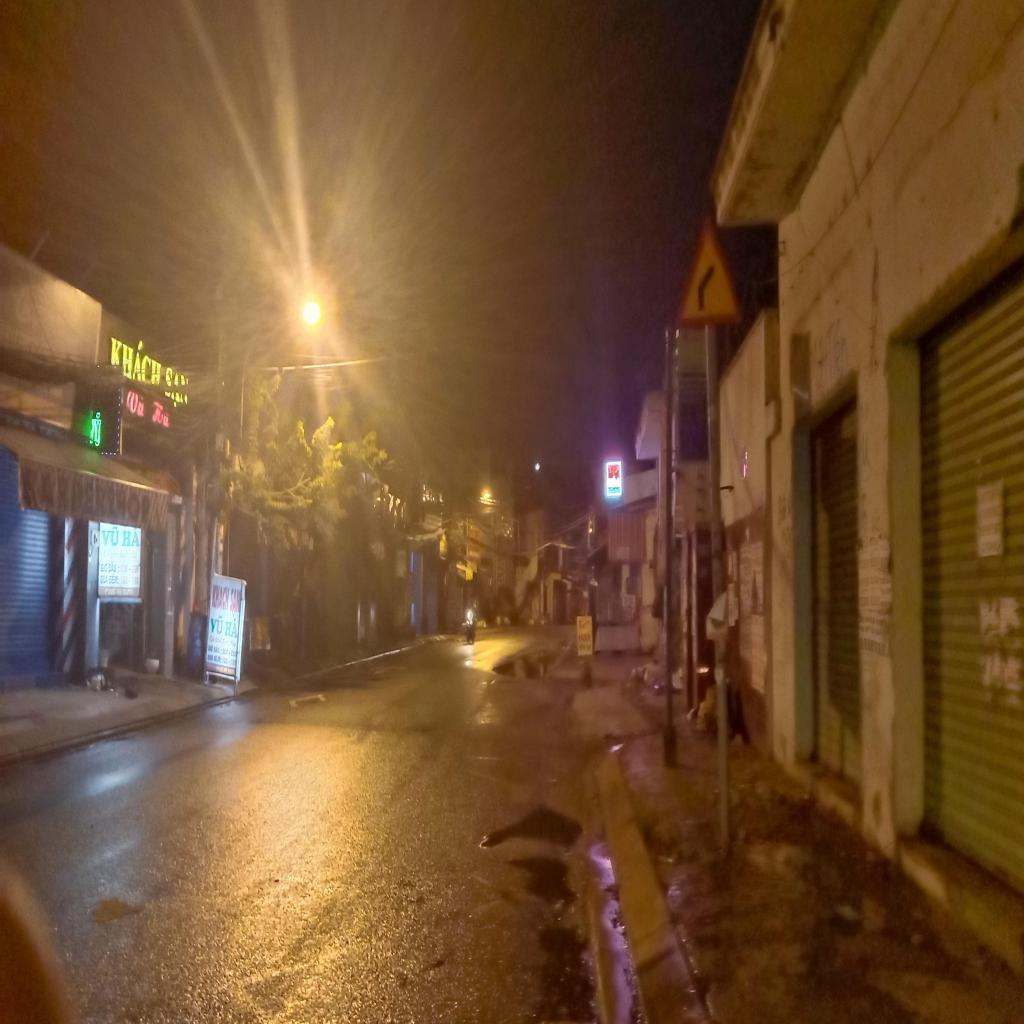cho_ngoat_nguy_hiem_ben_phai: (675, 212, 742, 327)
